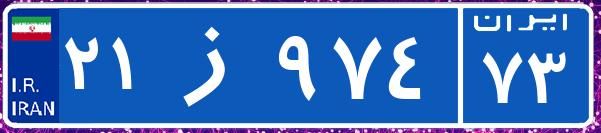1: (110, 28, 158, 105)
2: (57, 26, 110, 107)
3: (525, 38, 570, 115)
4: (385, 28, 445, 110)
7: (330, 28, 385, 110), (475, 38, 525, 113)
9: (273, 28, 330, 110)
ز: (158, 15, 273, 115)
